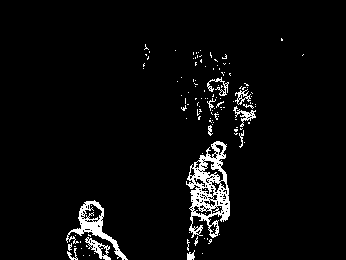person: (184, 141, 231, 260), (68, 200, 127, 260), (233, 82, 256, 149), (206, 78, 228, 136)
